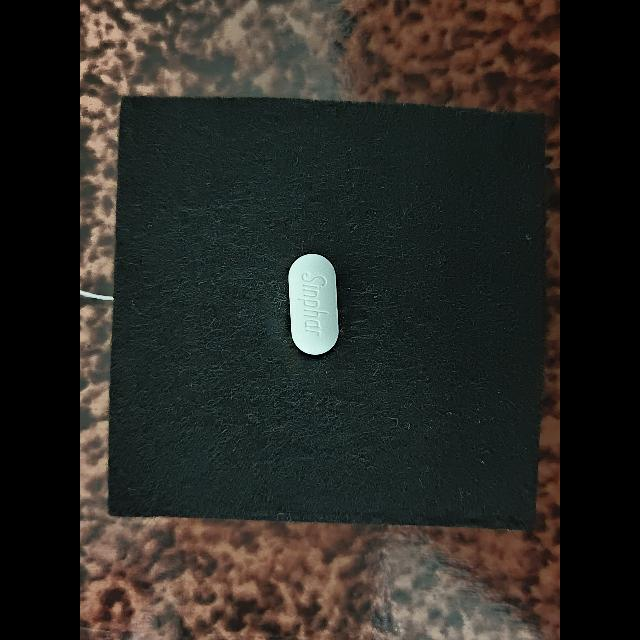Intact Pill: (288, 253, 339, 355)
